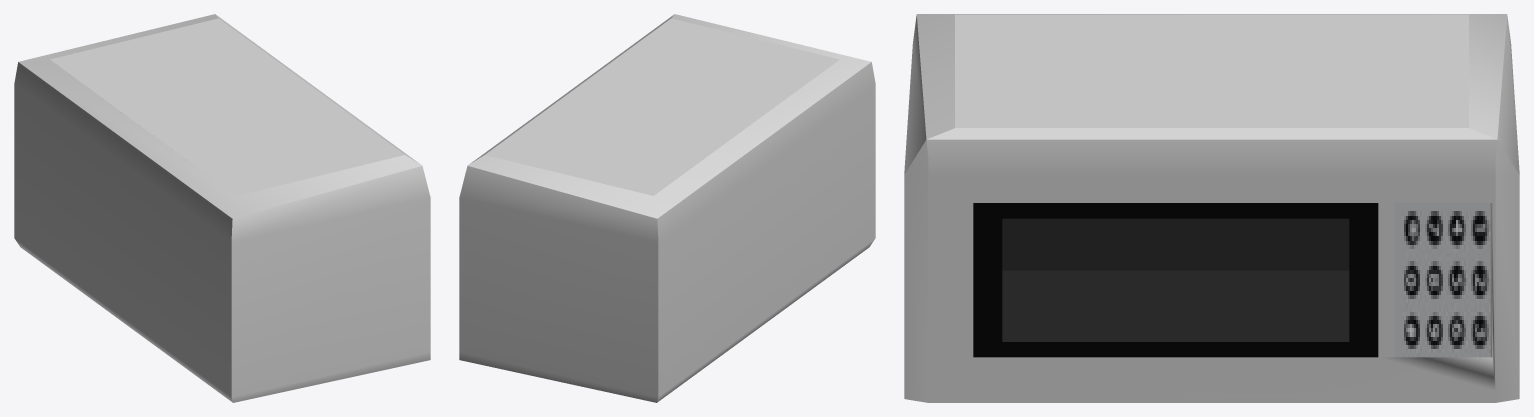
Rendered from newmicrowave.fbx.
The picture shows the model from 3 angles, left to right: view 1: azimuth 30°, elevation 25°; view 2: azimuth 150°, elevation 25°; view 3: azimuth 270°, elevation 25°; orthographic projection. The views are drawn at different scales.
Parts seen in each view (by area): view 1: pCube1; view 2: pCube1; view 3: pCube1, Plane.
Part boxes in pixels (bbox=[...]): pCube1: bbox=[14, 14, 430, 402]; pCube1: bbox=[459, 14, 875, 402]; pCube1: bbox=[904, 14, 1519, 402]; Plane: bbox=[1394, 203, 1490, 357].
Size of the model in its own units: 83.29 by 78.56 by 163.
Materials: 4 (1 with a texture image).
